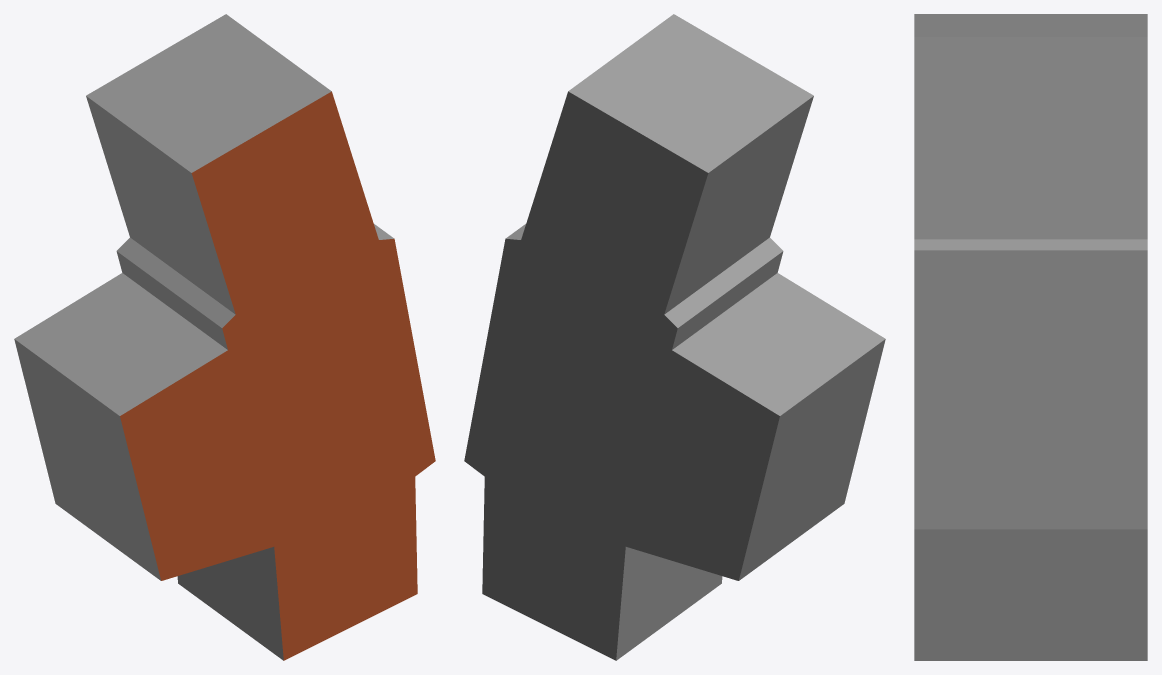
File: construction_5655_assumed_A_Casa_h6m.obj
The picture shows the model from 3 angles, left to right: view 1: azimuth 30°, elevation 25°; view 2: azimuth 150°, elevation 25°; view 3: azimuth 270°, elevation 25°; orthographic projection. The views are drawn at different scales.
Parts seen in each view (by area): view 1: construction_5655_assumed_A_Casa; view 2: construction_5655_assumed_A_Casa; view 3: construction_5655_assumed_A_Casa.
Part boxes in pixels (box(x1,y1,x2,y2)): construction_5655_assumed_A_Casa: box(14, 14, 435, 660); construction_5655_assumed_A_Casa: box(464, 14, 885, 660); construction_5655_assumed_A_Casa: box(914, 14, 1147, 660).
Bounding box in the file's own units: 10.35 × 17.47 × 6.
